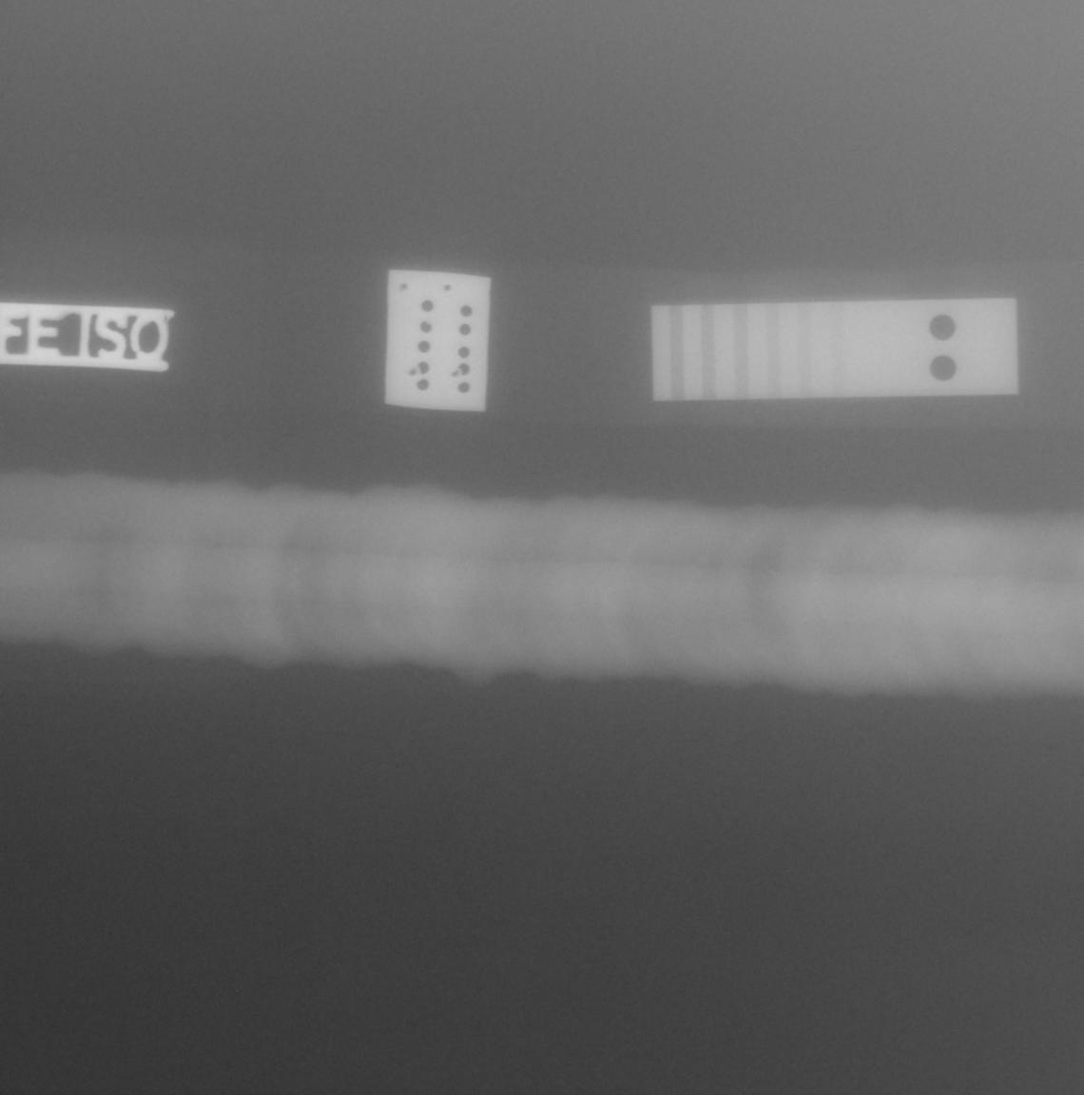Reference Standard 2: (651, 298, 1019, 401)
